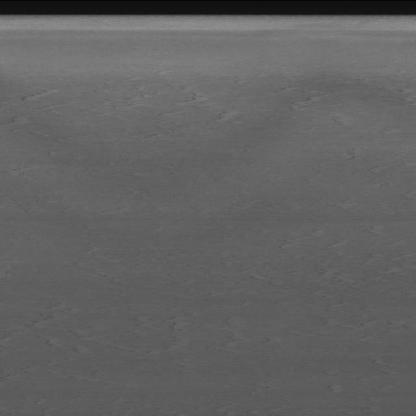silk_spot: (49, 60, 399, 138)
